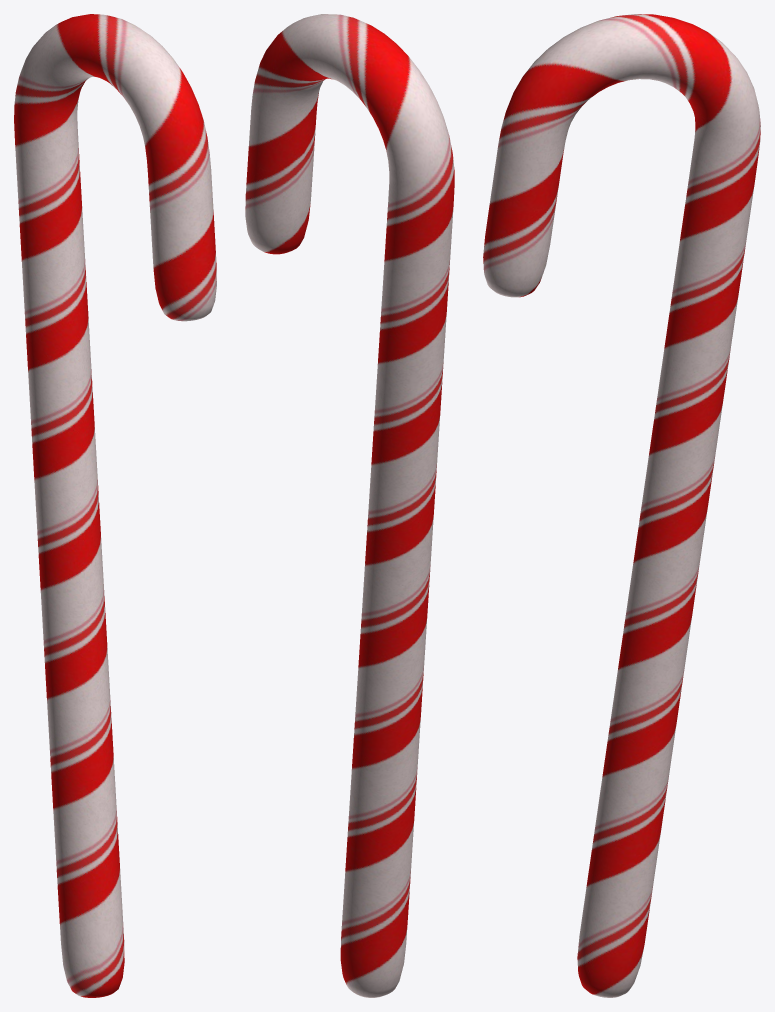
The model's file is candyCane.obj.
The picture shows the model from 3 angles, left to right: view 1: azimuth 30°, elevation 25°; view 2: azimuth 210°, elevation 25°; view 3: azimuth 270°, elevation 25°; orthographic projection. The views are drawn at different scales.
Parts seen in each view (by area): view 1: candy_cane; view 2: candy_cane; view 3: candy_cane.
Part boxes in pixels (x1=…): candy_cane: x1=14, y1=14, x2=216, y2=997; candy_cane: x1=245, y1=14, x2=454, y2=997; candy_cane: x1=483, y1=14, x2=760, y2=997.
Bounding box in the file's own units: 0.5122 × 4.55 × 1.16.
1 material, 1 textured.
